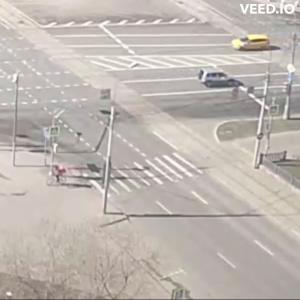car: (200, 70, 248, 91), (232, 35, 270, 52)
